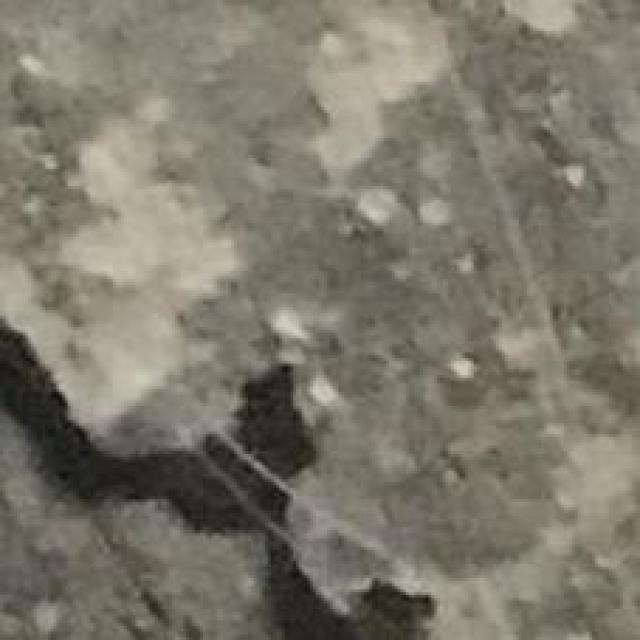Crack: (0, 315, 431, 637)
